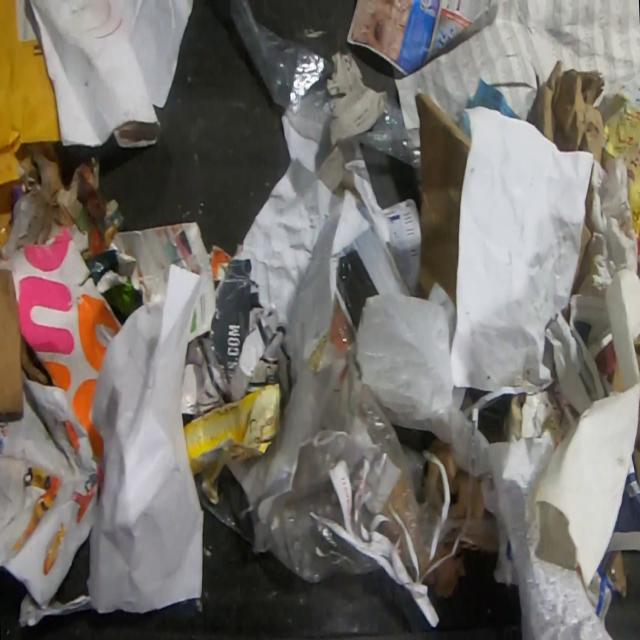cardboard: (0, 0, 62, 250), (182, 380, 284, 507), (414, 90, 471, 308), (0, 268, 52, 417), (532, 60, 605, 166), (571, 220, 593, 297), (597, 549, 628, 601)
soft_plastic: (197, 345, 508, 585), (228, 0, 339, 131), (344, 98, 421, 171)
